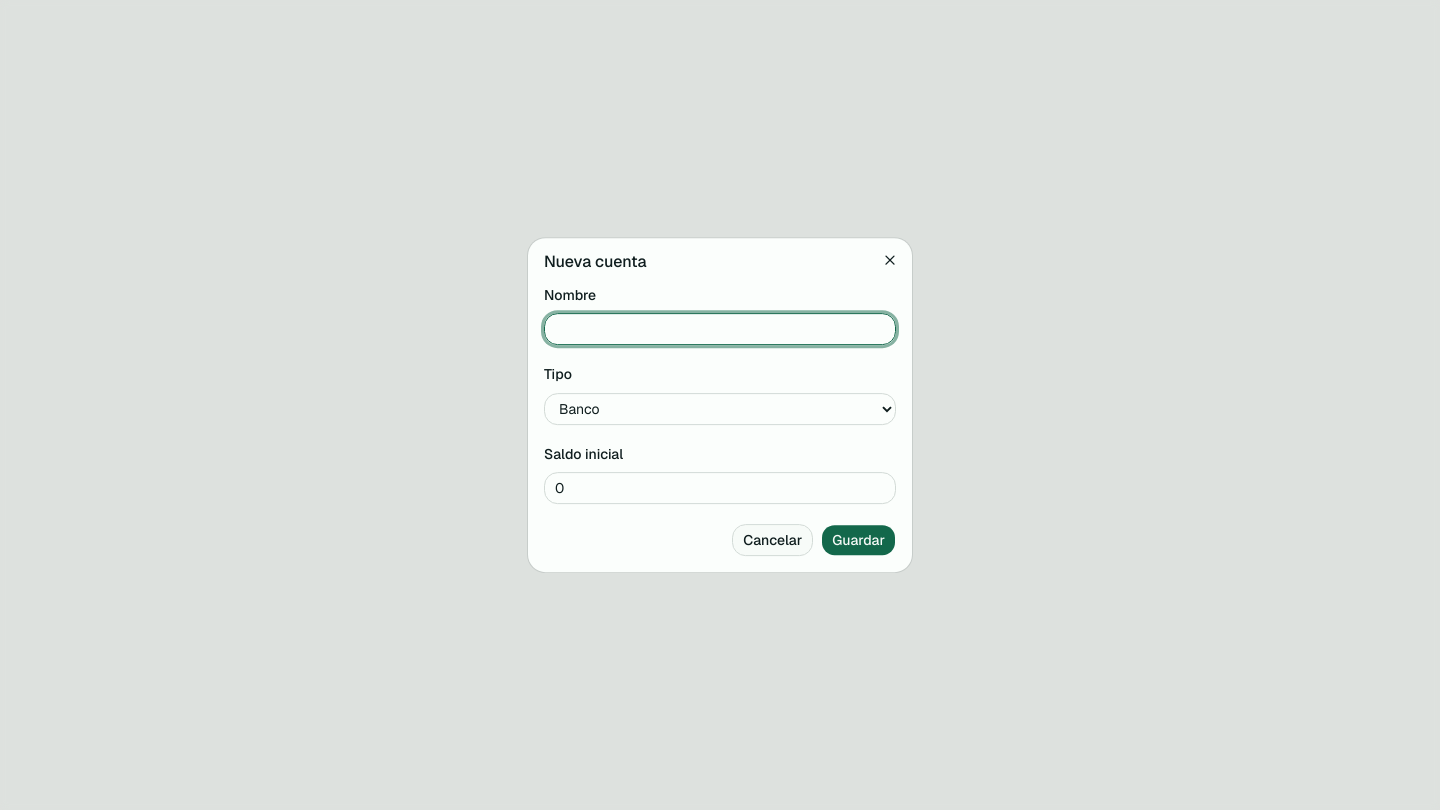
Test case: AccountForm › reveals the creditLimit field when type is set to credit_card
The width and height of the screenshot is (1440, 810).
Select "Tarjeta de crédito" in the dropdown labelled "Tipo": [720, 409] box [544,393,896,425]
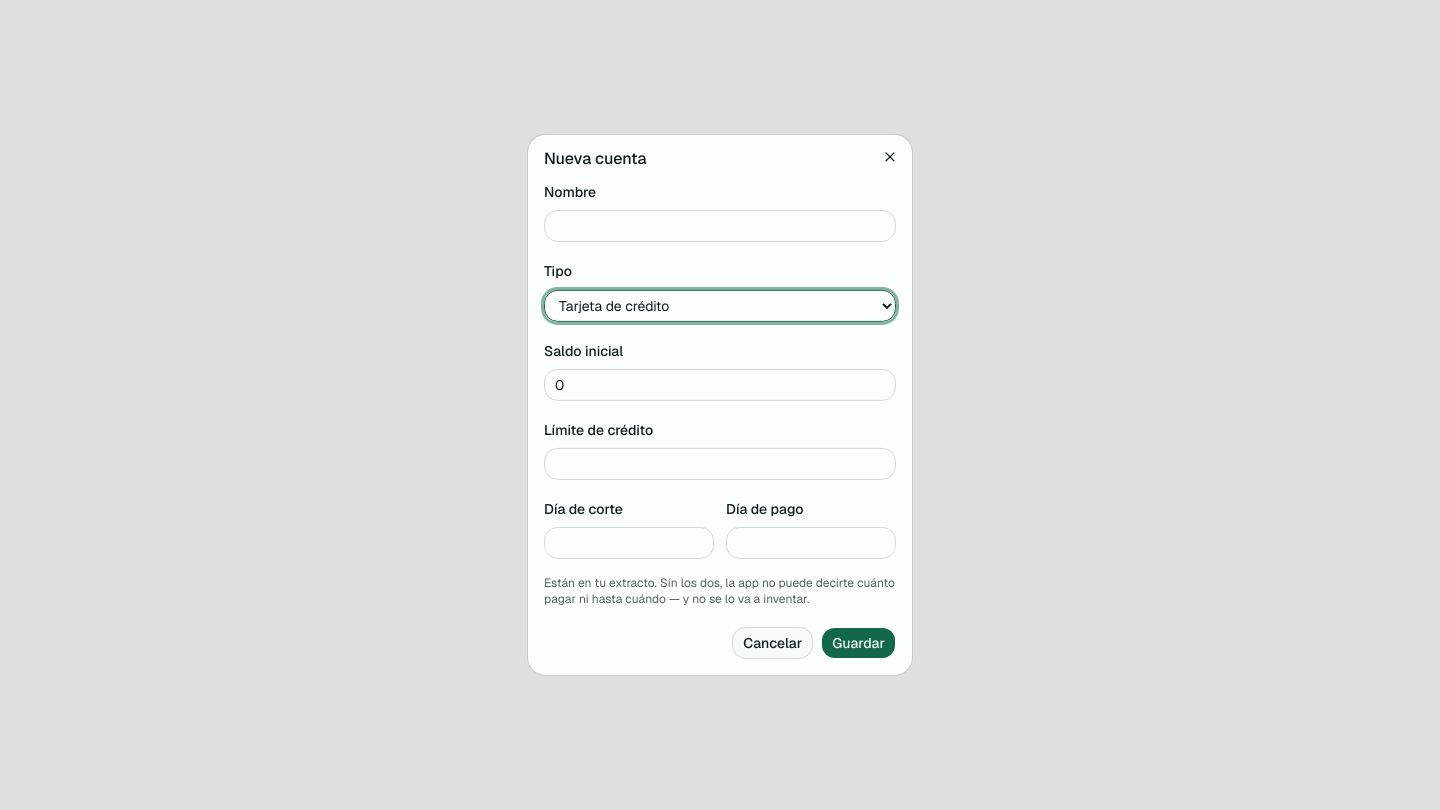
Now the number field labelled "Límite de crédito" is shown, box [544,448,896,480]
